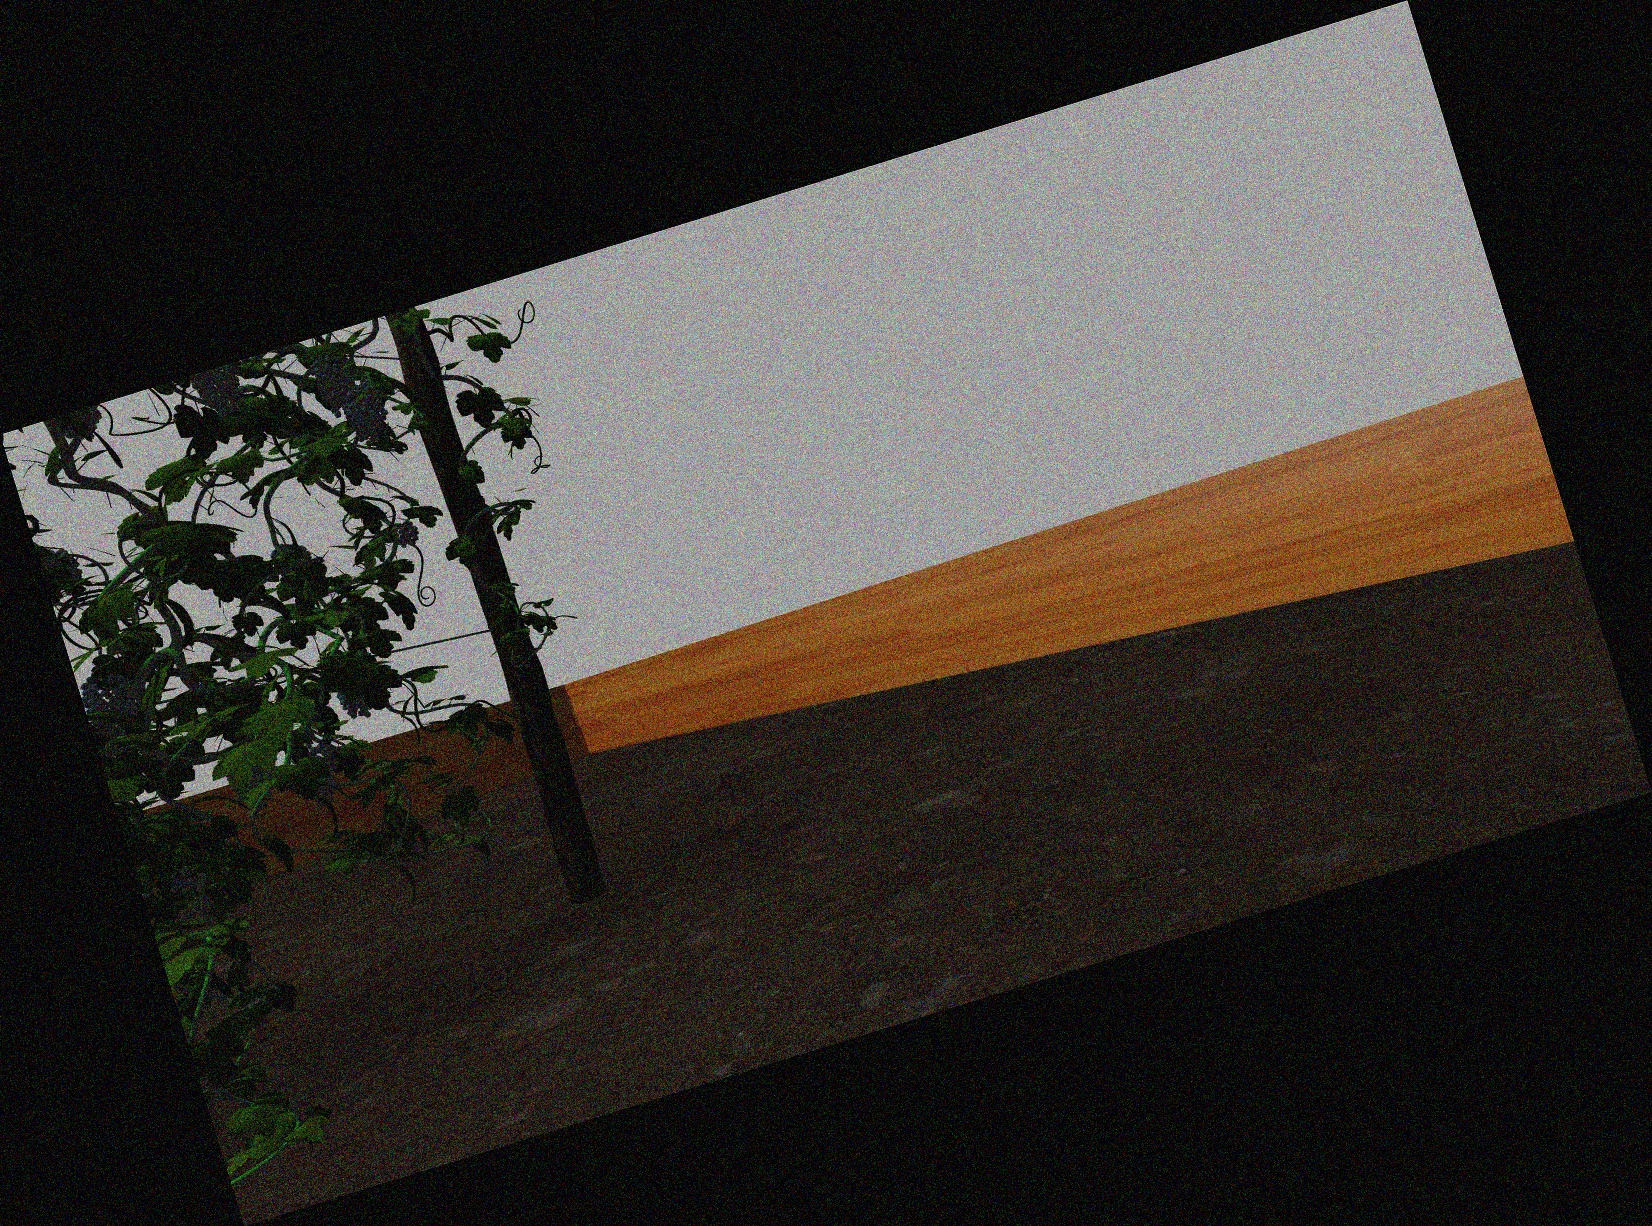grape: (88, 672, 138, 737), (315, 355, 355, 415), (194, 373, 243, 416), (350, 388, 384, 439), (390, 519, 422, 549)
